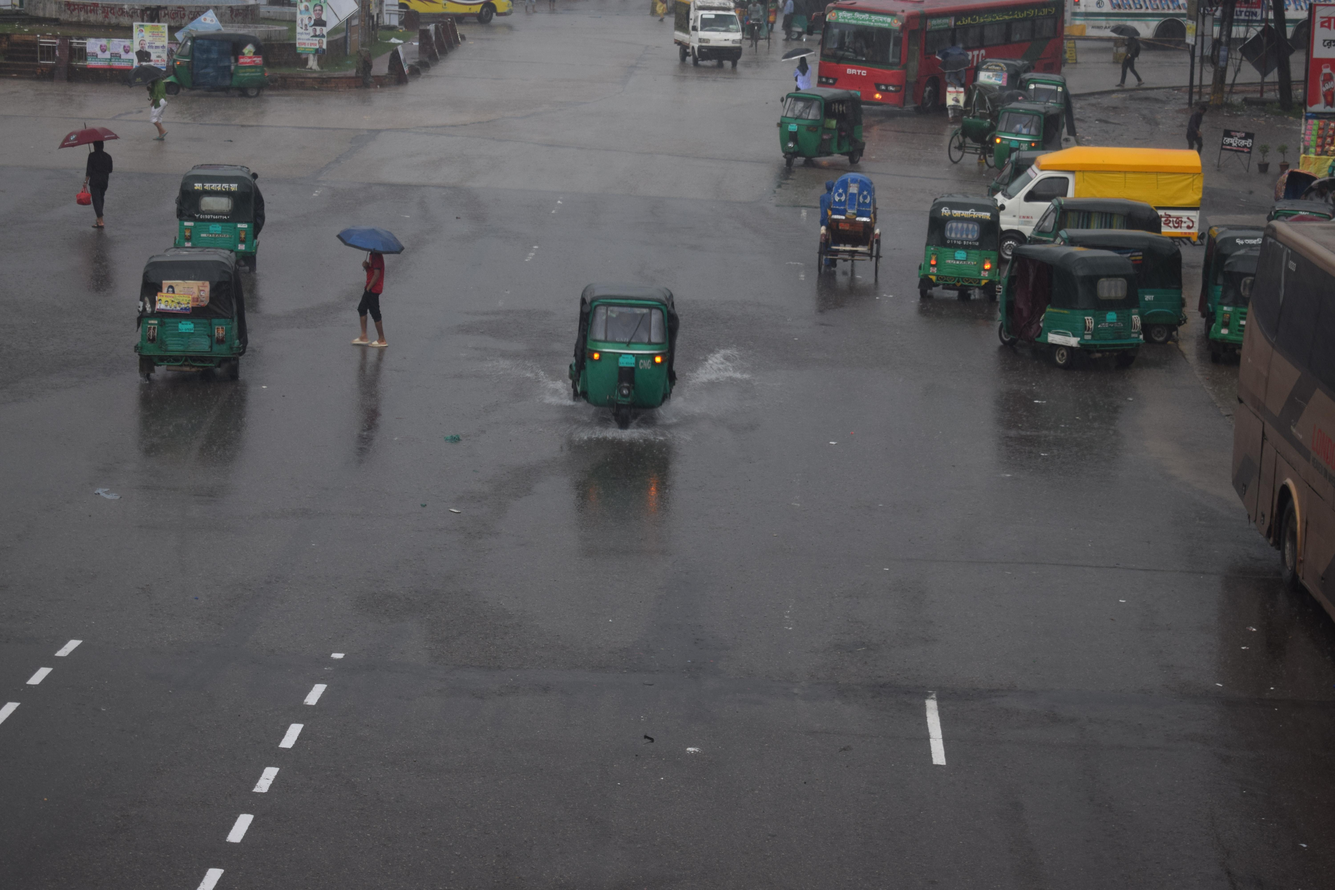Bus: (1193, 196, 1335, 638), (807, 0, 1086, 128), (1042, 0, 1335, 60)
Car: (979, 128, 1228, 229), (786, 153, 928, 325), (645, 0, 755, 75)
